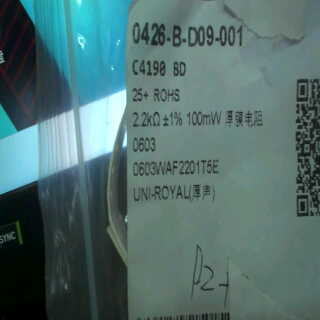2.2kR: (130, 108, 164, 131)
